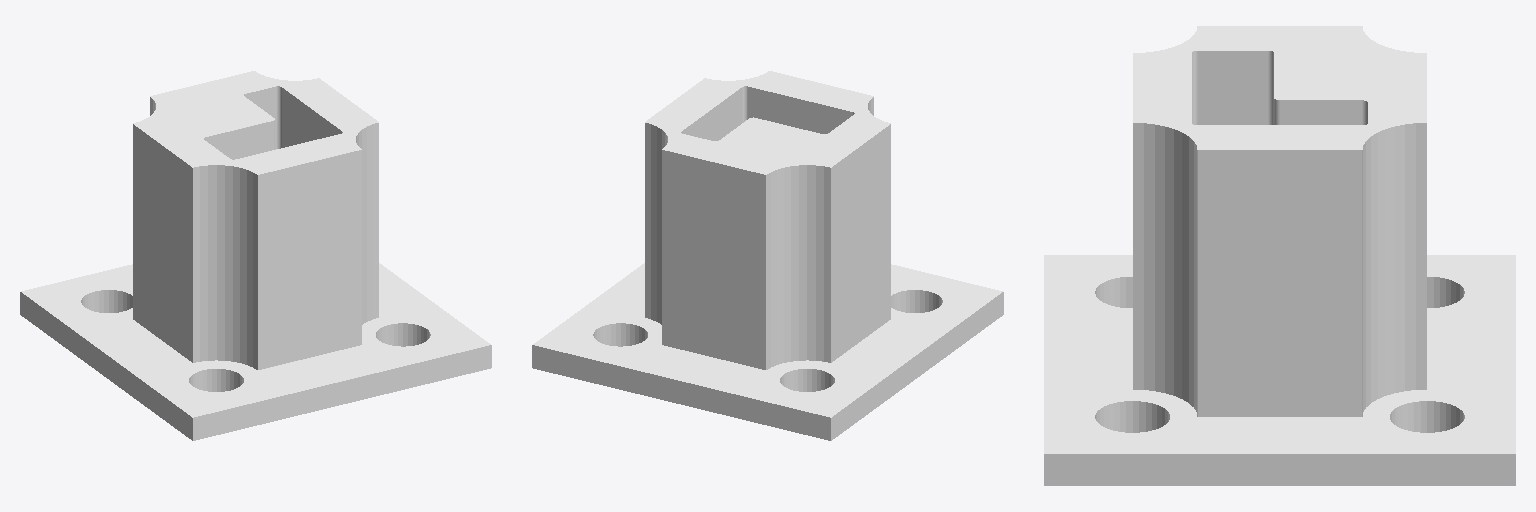
The robot description file, URDF, robot "kitchen_robot_v3":
<?xml version="1.0"?>
<robot name="kitchen_robot_v3">
  <link name="base_link"/>
  <link name="L_hole">
    <visual>
      <origin xyz="0.000000 0.000000 0.000000" rpy="0.000000 0.000000 0.000000"/>
      <geometry>
        <mesh filename="../L_hole.stl"/>
      </geometry>
      <material name="L_hole_mat">
        <color rgba="1.000 1.000 1.000 1.000"/>
      </material>
    </visual>
    <collision>
      <origin xyz="0.000000 0.000000 0.000000" rpy="0.000000 0.000000 0.000000"/>
      <geometry>
        <mesh filename="../L_hole.stl"/>
      </geometry>
    </collision>
  </link>
  <joint name="joint_L_hole" type="revolute">
    <parent link="base_link"/>
    <child link="L_hole"/>
    <origin xyz="0.000000 0.000000 0.000000" rpy="0.000000 -0.000000 0.000000"/>
    <axis xyz="1.000000 0.000000 0.000000"/>
    <limit lower="-3.141593" upper="3.141593" effort="0.000000" velocity="0.000000"/>
  </joint>
</robot>

--- Render facts (derived) ---
3 views of the same robot in one strip: view 1: azimuth 30°, elevation 25°; view 2: azimuth 150°, elevation 25°; view 3: azimuth 270°, elevation 25° (orthographic).
Robot: kitchen_robot_v3 — 2 links, 1 joints (1 revolute); root link base_link; default pose: every joint at zero.
Links seen in each view (by area): view 1: L_hole; view 2: L_hole; view 3: L_hole.
Boxes of the visible links, x1,y1,x2,y2 form: L_hole: (20, 71, 491, 440); L_hole: (532, 71, 1003, 440); L_hole: (1044, 26, 1515, 485).
Size in the robot's own frame: 0.04 by 0.04 by 0.028 metres.
1 mesh visuals loaded from 1 distinct referenced files (1 ASCII STL).